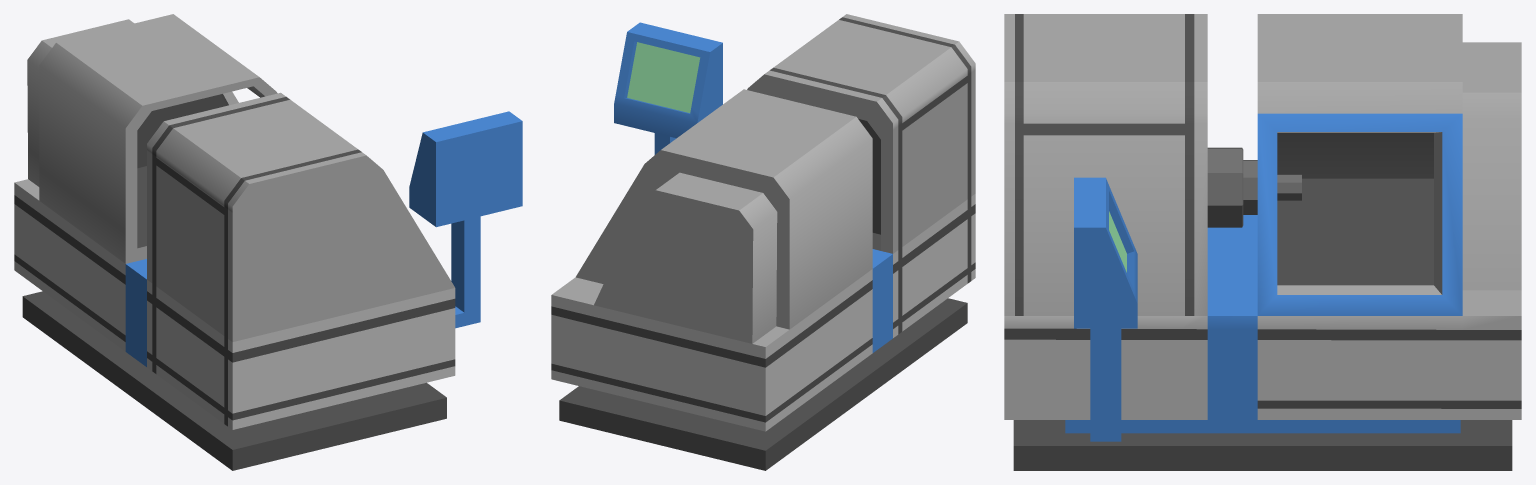
File: cnc.gltf
3 renders of one model, left to right at view 1: azimuth 30°, elevation 25°; view 2: azimuth 150°, elevation 25°; view 3: azimuth 270°, elevation 25°, orthographic. The views are drawn at different scales.
Visible parts, largest first — view 1: Cube; view 2: Cube; view 3: Cube, Cylinder.
Part boxes in pixels (x1,y1,x2,y2): Cube: (14, 14, 522, 470); Cube: (551, 14, 975, 470); Cube: (1004, 14, 1521, 470); Cylinder: (1207, 147, 1301, 227).
Bounding box in the file's own units: 4.99 × 4.28 × 5.9.
